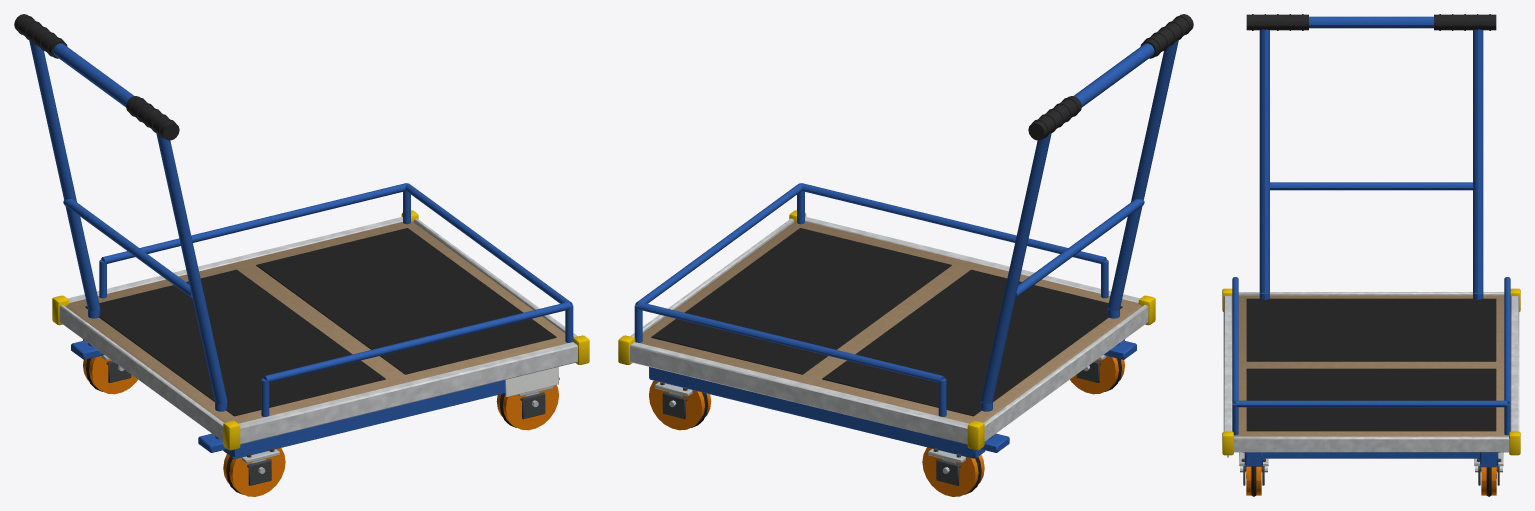
File: empresa_brasil_carrinho.glb
3 views of the same model, side by side, from view 1: azimuth 30°, elevation 25°; view 2: azimuth 150°, elevation 25°; view 3: azimuth 270°, elevation 25° (orthographic). The views are drawn at different scales.
Visible parts, largest first — view 1: EB_Carrinho; view 2: EB_Carrinho; view 3: EB_Carrinho.
Part boxes in pixels (box(x1,y1,x2,y2)): EB_Carrinho: box(14, 14, 589, 496); EB_Carrinho: box(618, 14, 1193, 496); EB_Carrinho: box(1222, 14, 1520, 496).
Size of the model in its own units: 1.09 by 0.9962 by 0.812.
Materials: 1 (1 with a texture image).
